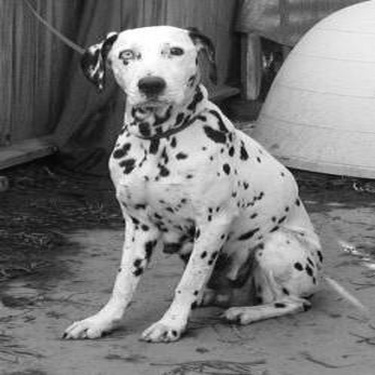dog: (56, 19, 329, 349)
